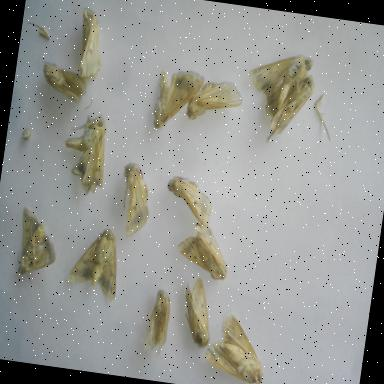abw: (240, 43, 318, 131), (60, 218, 128, 308), (51, 107, 114, 202), (198, 308, 274, 384), (8, 201, 65, 292), (149, 58, 209, 138), (170, 216, 236, 286), (262, 68, 318, 150), (109, 159, 159, 243), (182, 70, 248, 133), (157, 168, 220, 232), (171, 272, 219, 354), (70, 4, 114, 86), (34, 52, 94, 108), (136, 284, 178, 362)
